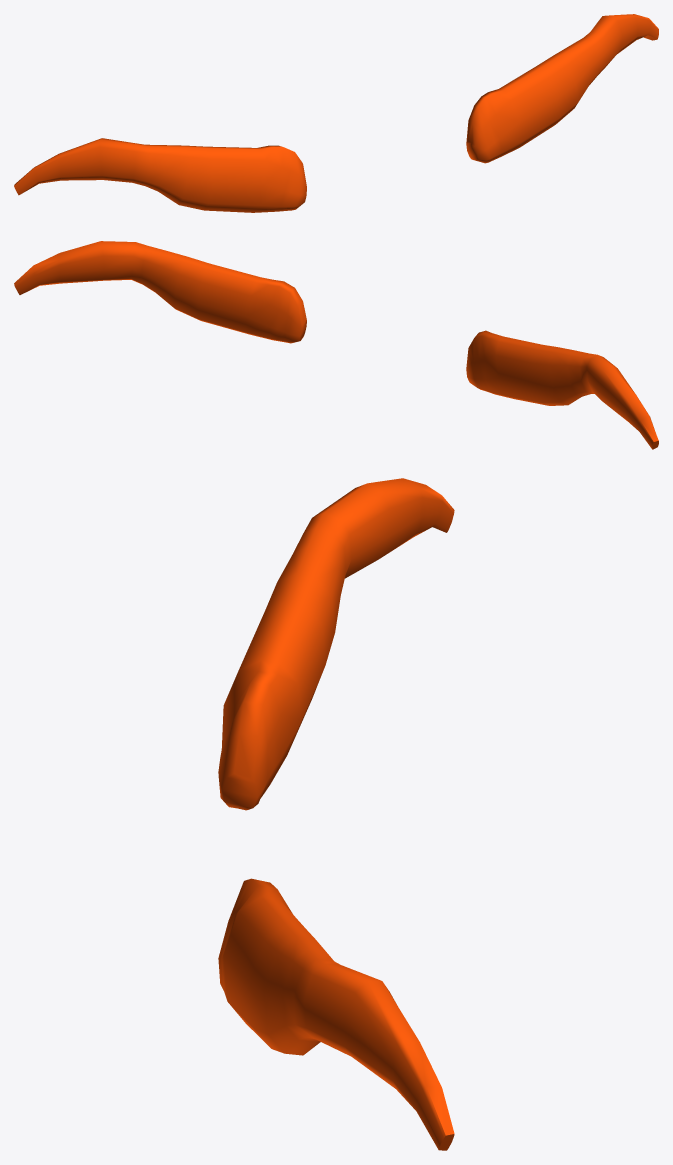
Rendered from Eyebrows_07_06.fbx.
The picture shows the model from 3 angles, top to bottom: view 1: azimuth 30°, elevation 25°; view 2: azimuth 150°, elevation 25°; view 3: azimuth 270°, elevation 25°; orthographic projection. The views are drawn at different scales.
Visible parts, largest first — view 1: Eyebrows_07_06; view 2: Eyebrows_07_06; view 3: Eyebrows_07_06.
Boxes of the visible parts, x1,y1,x2,y2 form: Eyebrows_07_06: [14, 14, 658, 212]; Eyebrows_07_06: [14, 241, 658, 449]; Eyebrows_07_06: [218, 478, 454, 1150].
Size of the model in its own units: 19.46 by 2.46 by 3.09.
